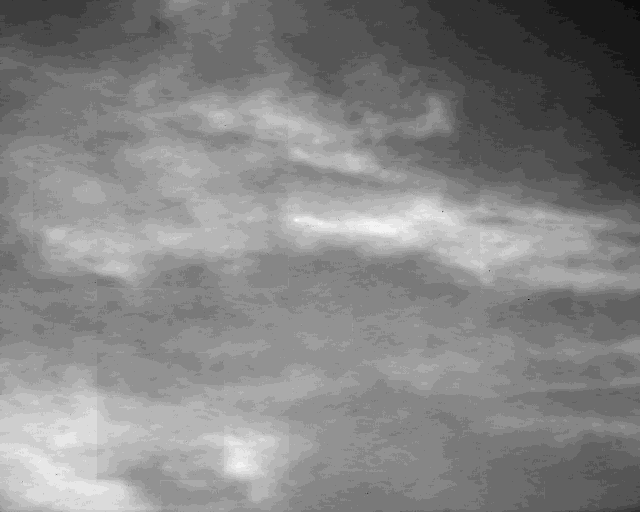Target: (296, 220, 300, 222)
